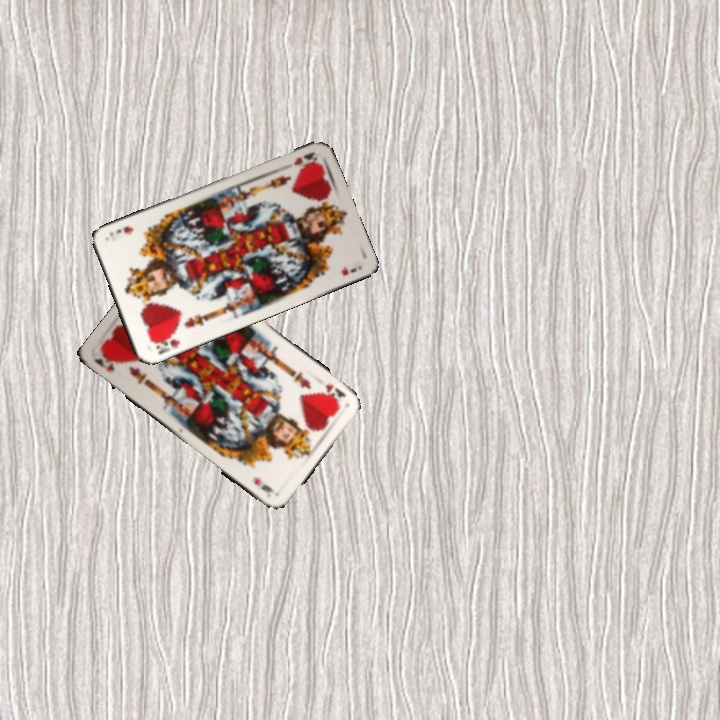HK: (147, 329, 183, 357), (321, 380, 349, 404), (90, 351, 117, 374), (290, 148, 319, 168)
